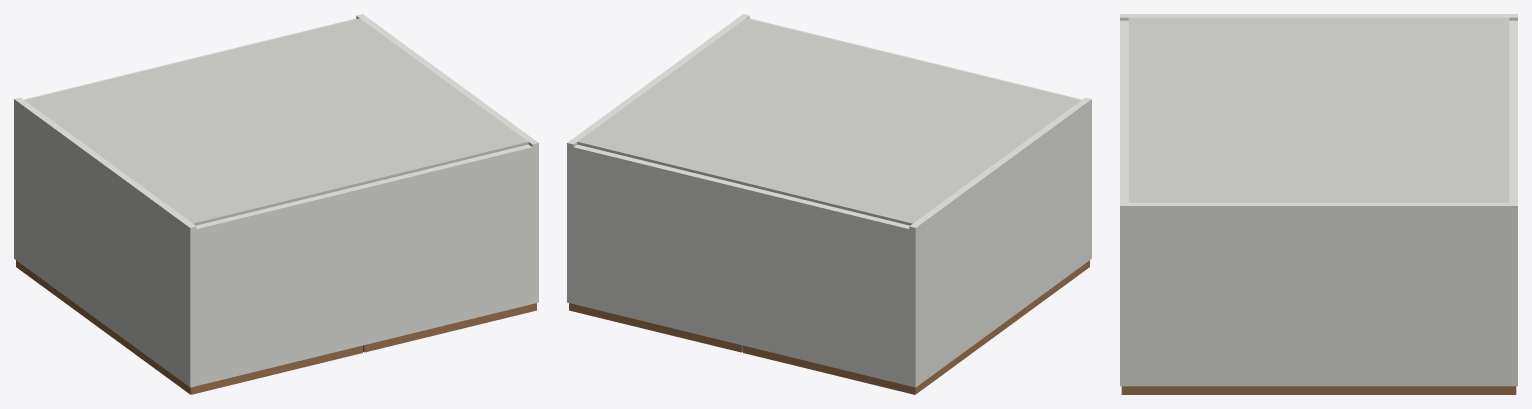
File: M07_wall_cabinet.obj
3 renders of one model, left to right at view 1: azimuth 30°, elevation 25°; view 2: azimuth 150°, elevation 25°; view 3: azimuth 270°, elevation 25°, orthographic. The views are drawn at different scales.
Parts seen in each view (by area): view 1: M07_wall_cabinet_Fundo, M07_wall_cabinet_Tampo_Interno, M07_wall_cabinet_Lateral_Esquerda, M07_wall_cabinet_Porta_1, M07_wall_cabinet_Lateral_Direita, M07_wall_cabinet_Porta_2, M07_wall_cabinet_Base; view 2: M07_wall_cabinet_Fundo, M07_wall_cabinet_Base, M07_wall_cabinet_Lateral_Esquerda, M07_wall_cabinet_Porta_1, M07_wall_cabinet_Lateral_Direita, M07_wall_cabinet_Porta_2, M07_wall_cabinet_Tampo_Interno; view 3: M07_wall_cabinet_Lateral_Direita, M07_wall_cabinet_Fundo, M07_wall_cabinet_Porta_2, M07_wall_cabinet_Base, M07_wall_cabinet_Tampo_Interno, M07_wall_cabinet_Lateral_Esquerda.
Boxes of the visible parts, left/top/right/bottom form: M07_wall_cabinet_Fundo: left=24, top=18, right=528, bottom=225; M07_wall_cabinet_Tampo_Interno: left=196, top=144, right=532, bottom=385; M07_wall_cabinet_Lateral_Esquerda: left=14, top=97, right=196, bottom=387; M07_wall_cabinet_Porta_1: left=16, top=260, right=362, bottom=394; M07_wall_cabinet_Lateral_Direita: left=356, top=14, right=538, bottom=303; M07_wall_cabinet_Porta_2: left=363, top=303, right=536, bottom=352; M07_wall_cabinet_Base: left=24, top=18, right=356, bottom=99; M07_wall_cabinet_Fundo: left=577, top=18, right=1081, bottom=225; M07_wall_cabinet_Base: left=573, top=144, right=909, bottom=385; M07_wall_cabinet_Lateral_Esquerda: left=909, top=97, right=1091, bottom=387; M07_wall_cabinet_Porta_1: left=743, top=260, right=1089, bottom=394; M07_wall_cabinet_Lateral_Direita: left=567, top=14, right=749, bottom=303; M07_wall_cabinet_Porta_2: left=569, top=303, right=742, bottom=352; M07_wall_cabinet_Tampo_Interno: left=749, top=18, right=1081, bottom=99; M07_wall_cabinet_Lateral_Direita: left=1120, top=202, right=1517, bottom=386; M07_wall_cabinet_Fundo: left=1128, top=17, right=1509, bottom=202; M07_wall_cabinet_Porta_2: left=1121, top=386, right=1516, bottom=394; M07_wall_cabinet_Base: left=1509, top=20, right=1517, bottom=202; M07_wall_cabinet_Tampo_Interno: left=1120, top=20, right=1128, bottom=202; M07_wall_cabinet_Lateral_Esquerda: left=1120, top=14, right=1517, bottom=20.
Bounding box in the file's own units: 800 × 388 × 700.
